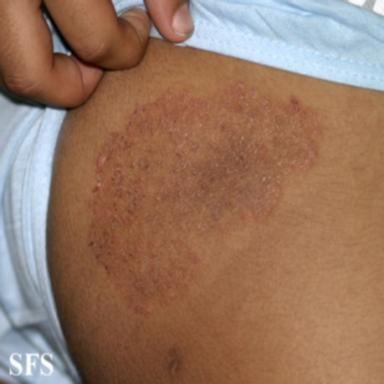Tinea-Corporis: (90, 83, 321, 304)
